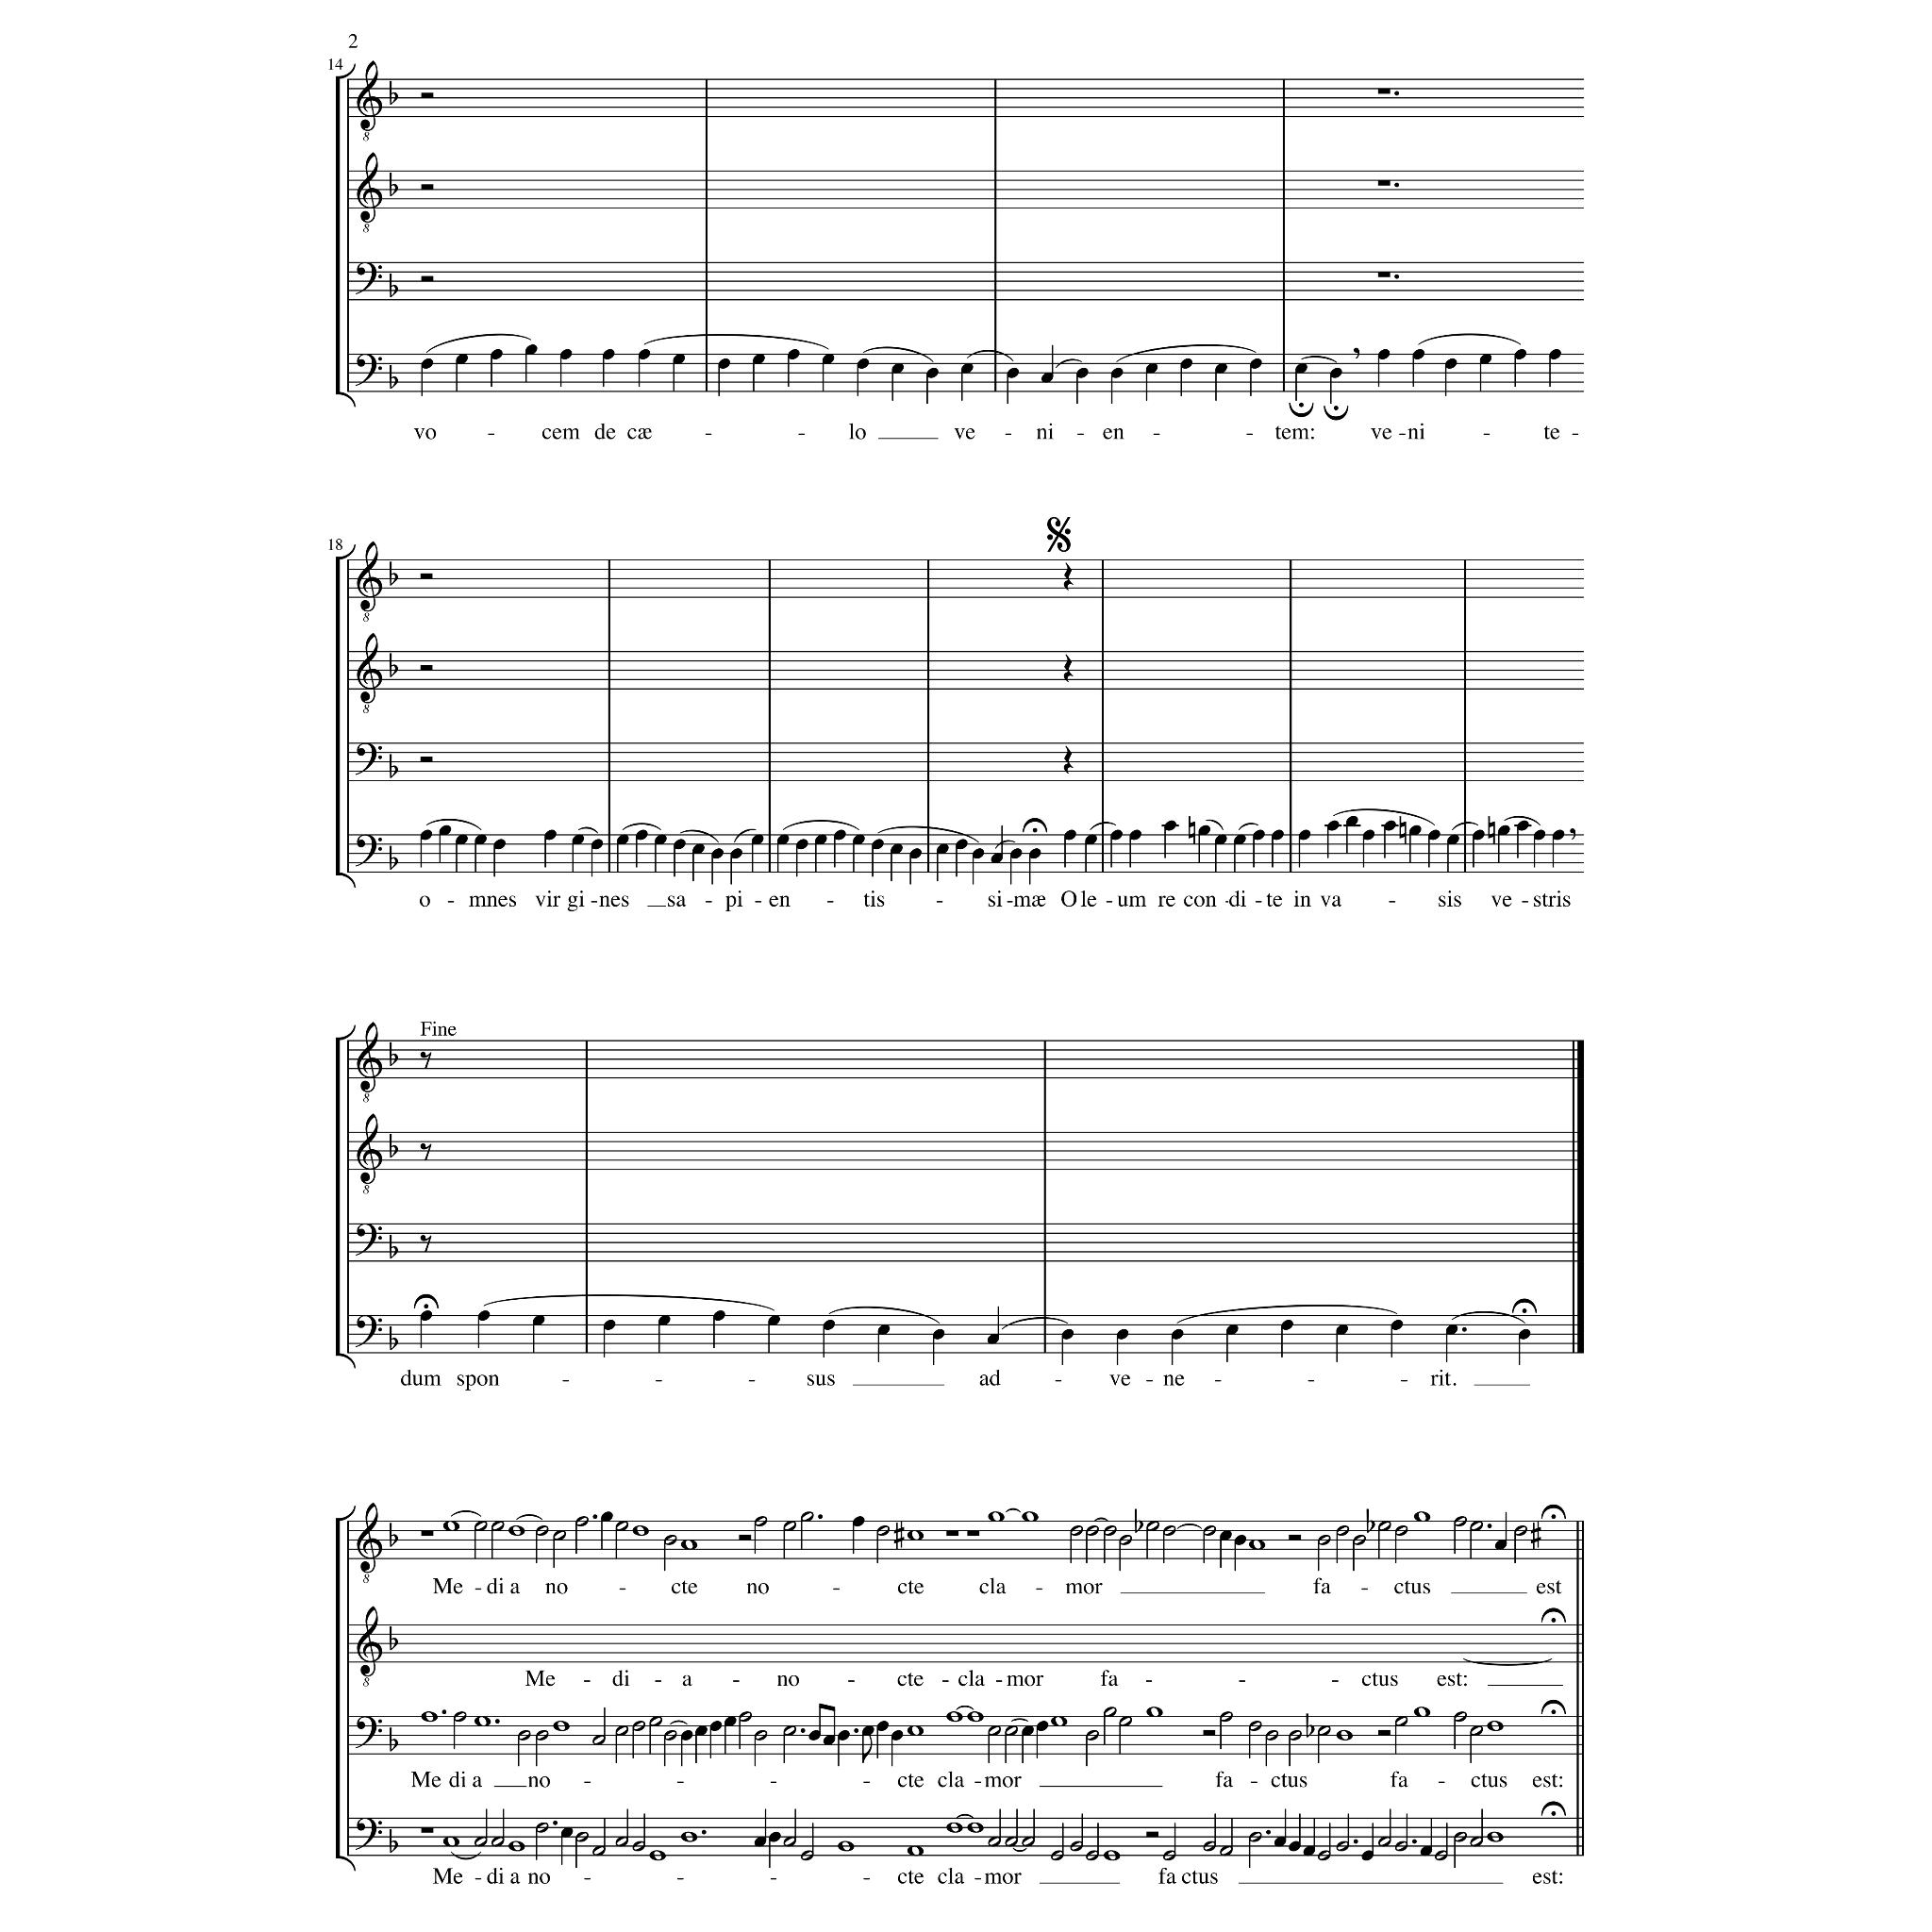fClef: (354, 262, 382, 295), (354, 743, 382, 777), (354, 1315, 382, 1348), (354, 1223, 382, 1256), (354, 1817, 382, 1851), (354, 354, 382, 386), (354, 835, 382, 867), (354, 1716, 382, 1748)
flag8thDown: (862, 1736, 872, 1764)
gClef: (356, 60, 382, 133), (356, 632, 382, 704), (356, 1113, 382, 1185), (356, 1021, 382, 1093), (356, 152, 382, 223), (356, 541, 382, 612), (356, 1606, 382, 1677), (356, 1502, 382, 1573)
noteheadBlack: (1378, 349, 1391, 361), (1145, 363, 1157, 375), (1111, 366, 1123, 379), (1076, 366, 1088, 379), (1295, 363, 1307, 375), (1214, 363, 1226, 375), (1548, 349, 1560, 361), (1412, 349, 1424, 361), (490, 349, 502, 361), (637, 349, 649, 361), (602, 349, 614, 361), (559, 349, 571, 361), (787, 349, 800, 361), (925, 366, 938, 379), (961, 363, 973, 375), (1007, 366, 1019, 379), (892, 363, 904, 375), (1233, 833, 1246, 846), (1214, 833, 1226, 846), (1085, 833, 1097, 846), (1028, 847, 1040, 860), (1164, 819, 1177, 832), (1516, 819, 1529, 832), (1384, 819, 1396, 832), (1447, 833, 1460, 846), (1327, 819, 1339, 832), (616, 833, 628, 846), (571, 833, 584, 846), (655, 833, 667, 846), (1008, 847, 1021, 860), (711, 847, 724, 860), (455, 833, 467, 846), (474, 833, 487, 846), (909, 847, 922, 860), (814, 833, 826, 846), (853, 833, 865, 846), (971, 847, 984, 860), (750, 833, 763, 846), (777, 833, 789, 846), (729, 847, 741, 860), (987, 1332, 1000, 1345), (1391, 1318, 1403, 1330), (1281, 1318, 1293, 1330), (658, 1315, 671, 1327), (823, 1318, 835, 1330), (768, 1315, 780, 1327), (533, 1315, 545, 1327), (603, 1318, 616, 1330), (1288, 1840, 1300, 1852), (1021, 1725, 1033, 1737), (561, 1826, 573, 1838), (600, 1511, 612, 1523), (862, 1725, 874, 1737), (695, 1725, 708, 1737), (1330, 366, 1341, 379), (1040, 373, 1053, 384), (1249, 359, 1261, 370), (1180, 359, 1192, 370), (1514, 349, 1525, 361), (1479, 354, 1491, 364), (1444, 359, 1456, 370), (455, 354, 467, 364), (525, 345, 538, 356), (672, 354, 685, 364), (856, 359, 869, 370), (823, 354, 835, 364), (752, 354, 764, 364), (1198, 824, 1210, 835), (1297, 830, 1309, 840), (1270, 830, 1283, 840), (1253, 830, 1265, 840), (1063, 830, 1076, 840), (1129, 830, 1141, 840), (1109, 830, 1122, 840), (1532, 830, 1545, 840), (1552, 830, 1564, 840), (1408, 824, 1421, 835), (1428, 830, 1440, 840), (1346, 816, 1359, 826), (1362, 830, 1375, 840), (1497, 824, 1509, 835), (1472, 830, 1484, 840), (543, 830, 556, 840), (494, 839, 506, 849), (692, 844, 704, 855), (635, 830, 648, 840), (439, 824, 451, 835), (419, 830, 432, 840), (672, 839, 685, 849), (890, 844, 902, 855), (936, 844, 948, 855), (833, 830, 846, 840), (870, 839, 883, 849), (955, 839, 968, 849), (991, 853, 1003, 863), (796, 839, 809, 849), (1171, 1329, 1184, 1339), (1116, 1329, 1129, 1339), (878, 1325, 890, 1336), (932, 1329, 945, 1339), (1062, 1329, 1074, 1339), (1336, 1325, 1348, 1336), (1518, 1329, 1530, 1339), (1226, 1325, 1238, 1336), (1445, 1325, 1458, 1336), (419, 1311, 432, 1322), (713, 1311, 725, 1322), (1233, 1536, 1246, 1546), (1219, 1530, 1231, 1541), (1304, 1845, 1316, 1856), (1035, 1721, 1047, 1732), (1495, 1539, 1507, 1550), (1361, 1851, 1373, 1861), (1421, 1845, 1433, 1856), (876, 1721, 888, 1732), (853, 1516, 865, 1527), (892, 1730, 904, 1741), (823, 1734, 835, 1744), (809, 1730, 821, 1741), (837, 1730, 849, 1741), (724, 1716, 736, 1727), (754, 1836, 766, 1847), (681, 1730, 694, 1741), (709, 1721, 722, 1732), (768, 1831, 780, 1842), (421, 359, 432, 370), (718, 359, 729, 370), (591, 839, 602, 849), (478, 1311, 488, 1322), (1274, 1836, 1284, 1847)
noteheadHalf: (1316, 1725, 1330, 1737), (1336, 1840, 1350, 1852), (1336, 1525, 1350, 1537), (1085, 1525, 1099, 1537), (1162, 1525, 1177, 1537), (1102, 1525, 1116, 1537), (1514, 1525, 1529, 1537), (1394, 1840, 1408, 1852), (1394, 1525, 1408, 1537), (1453, 1711, 1467, 1723), (534, 1525, 548, 1537), (614, 1725, 628, 1737), (632, 1840, 646, 1852), (876, 1525, 890, 1537), (987, 1725, 1001, 1737), (738, 1711, 752, 1723), (782, 1725, 796, 1737), (800, 1511, 814, 1523), (1203, 1840, 1215, 1852), (1203, 1525, 1215, 1537), (1219, 1711, 1231, 1723), (1070, 1525, 1083, 1537), (1070, 1840, 1083, 1852), (1005, 1725, 1017, 1737), (1470, 1725, 1483, 1737), (453, 1711, 465, 1723), (1247, 1721, 1261, 1732), (1247, 1831, 1261, 1842), (1162, 1851, 1177, 1861), (1316, 1851, 1330, 1861), (1316, 1536, 1330, 1546), (1049, 1851, 1063, 1861), (1021, 1836, 1035, 1847), (1118, 1716, 1132, 1727), (1118, 1536, 1132, 1546), (1085, 1730, 1099, 1741), (1085, 1851, 1099, 1861), (1102, 1707, 1116, 1718), (1394, 1716, 1408, 1727), (1352, 1536, 1366, 1546), (1376, 1522, 1391, 1532), (1376, 1836, 1391, 1847), (1433, 1851, 1447, 1861), (1453, 1516, 1467, 1527), (1453, 1831, 1467, 1842), (573, 1831, 587, 1842), (573, 1516, 587, 1527), (591, 1734, 605, 1744), (591, 1845, 605, 1856), (534, 1822, 548, 1833), (534, 1730, 548, 1741), (517, 1730, 531, 1741), (552, 1530, 566, 1541), (663, 1536, 678, 1546), (663, 1730, 678, 1741), (614, 1522, 628, 1532), (614, 1836, 628, 1847), (632, 1721, 646, 1732), (490, 1836, 504, 1847), (490, 1522, 504, 1532), (472, 1522, 487, 1532), (472, 1836, 487, 1847), (987, 1836, 1001, 1847), (782, 1522, 796, 1532), (782, 1836, 796, 1847), (800, 1851, 814, 1861), (1219, 1845, 1231, 1856), (1265, 1730, 1277, 1741), (1288, 1730, 1300, 1741), (1005, 1836, 1017, 1847), (1146, 1522, 1159, 1532), (1470, 1836, 1483, 1847), (1470, 1522, 1483, 1532), (649, 1716, 662, 1727), (754, 1516, 766, 1527), (754, 1730, 766, 1741)
noteheadWhole: (1247, 1539, 1265, 1552), (1021, 1511, 1039, 1523), (679, 1539, 697, 1552), (632, 1525, 649, 1537), (906, 1725, 924, 1737), (837, 1840, 855, 1852), (966, 1822, 984, 1835), (966, 1711, 984, 1723), (945, 1711, 962, 1723), (945, 1822, 962, 1835), (1414, 1511, 1430, 1523), (421, 1711, 437, 1723), (508, 1525, 524, 1537), (508, 1840, 524, 1852), (987, 1511, 1003, 1523), (1336, 1730, 1353, 1741), (1049, 1716, 1067, 1727), (1102, 1851, 1120, 1861), (552, 1721, 570, 1732), (442, 1522, 460, 1532), (442, 1836, 460, 1847), (906, 1530, 924, 1541), (906, 1845, 924, 1856), (679, 1831, 697, 1842), (1146, 1707, 1162, 1718), (1414, 1707, 1430, 1718), (1486, 1721, 1502, 1732), (1486, 1831, 1502, 1842), (649, 1851, 665, 1861), (474, 1716, 490, 1727)
rest8th: (419, 1235, 432, 1253), (419, 1143, 432, 1161), (419, 1051, 432, 1069)
restHalf: (1146, 1831, 1159, 1838), (1201, 1730, 1215, 1736), (1376, 1730, 1391, 1736), (419, 573, 432, 579), (419, 665, 432, 671), (419, 757, 432, 763), (1288, 1536, 1300, 1541), (738, 1536, 750, 1541), (421, 276, 432, 281), (421, 186, 432, 191), (421, 92, 432, 97)
restQuarter: (1063, 563, 1074, 591), (1063, 655, 1074, 683), (1063, 745, 1074, 773)
restWhole: (945, 1530, 959, 1536), (1378, 88, 1391, 94), (1378, 272, 1391, 278), (1378, 180, 1391, 186), (966, 1530, 978, 1536), (421, 1530, 432, 1536), (421, 1828, 432, 1833)
